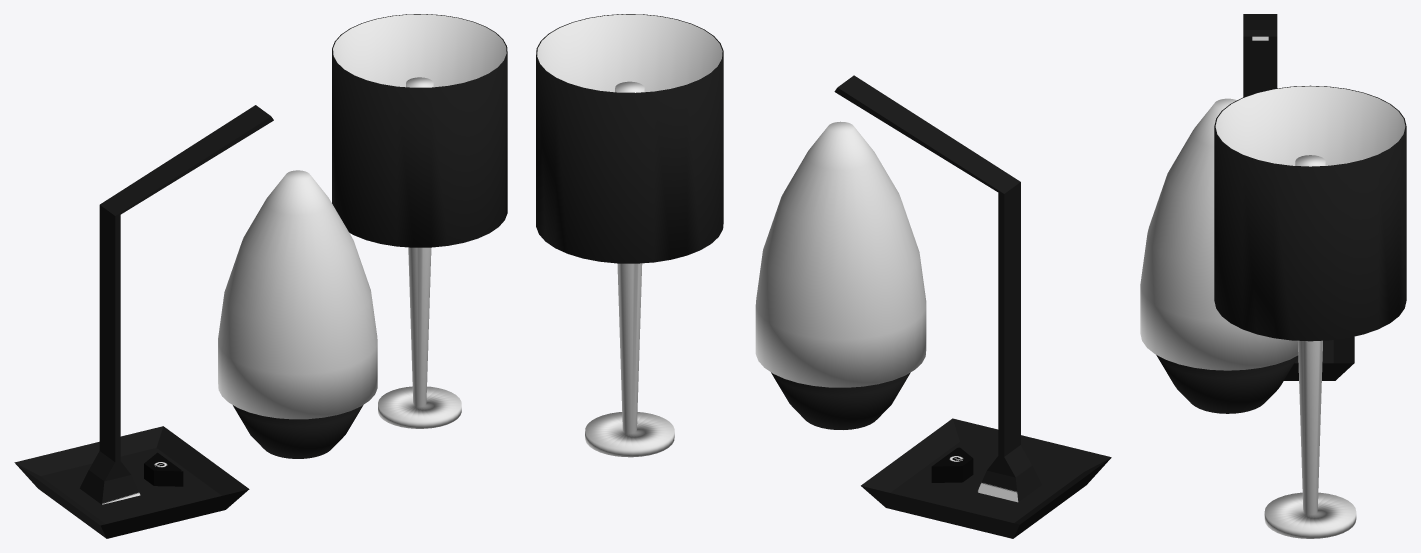
Rendered from Lamp.obj.
3 views of the same model, side by side, from view 1: azimuth 30°, elevation 25°; view 2: azimuth 150°, elevation 25°; view 3: azimuth 270°, elevation 25° (orthographic). The views are drawn at different scales.
Parts seen in each view (by area): view 1: Lamp3_Цилиндр.023, Lamp2_Цилиндр.022, Lamp1_Куб.015; view 2: Lamp3_Цилиндр.023, Lamp2_Цилиндр.022, Lamp1_Куб.015; view 3: Lamp3_Цилиндр.023, Lamp2_Цилиндр.022, Lamp1_Куб.015.
Boxes of the visible parts, x1,y1,x2,y2 form: Lamp3_Цилиндр.023: (332, 14, 507, 428); Lamp2_Цилиндр.022: (218, 170, 377, 458); Lamp1_Куб.015: (14, 105, 273, 538); Lamp3_Цилиндр.023: (536, 14, 723, 457); Lamp2_Цилиндр.022: (755, 121, 926, 429); Lamp1_Куб.015: (834, 75, 1111, 538); Lamp3_Цилиндр.023: (1214, 85, 1406, 538); Lamp2_Цилиндр.022: (1140, 98, 1298, 413); Lamp1_Куб.015: (1243, 14, 1354, 380).
Bounding box in the file's own units: 11.07 × 8.28 × 5.06.
